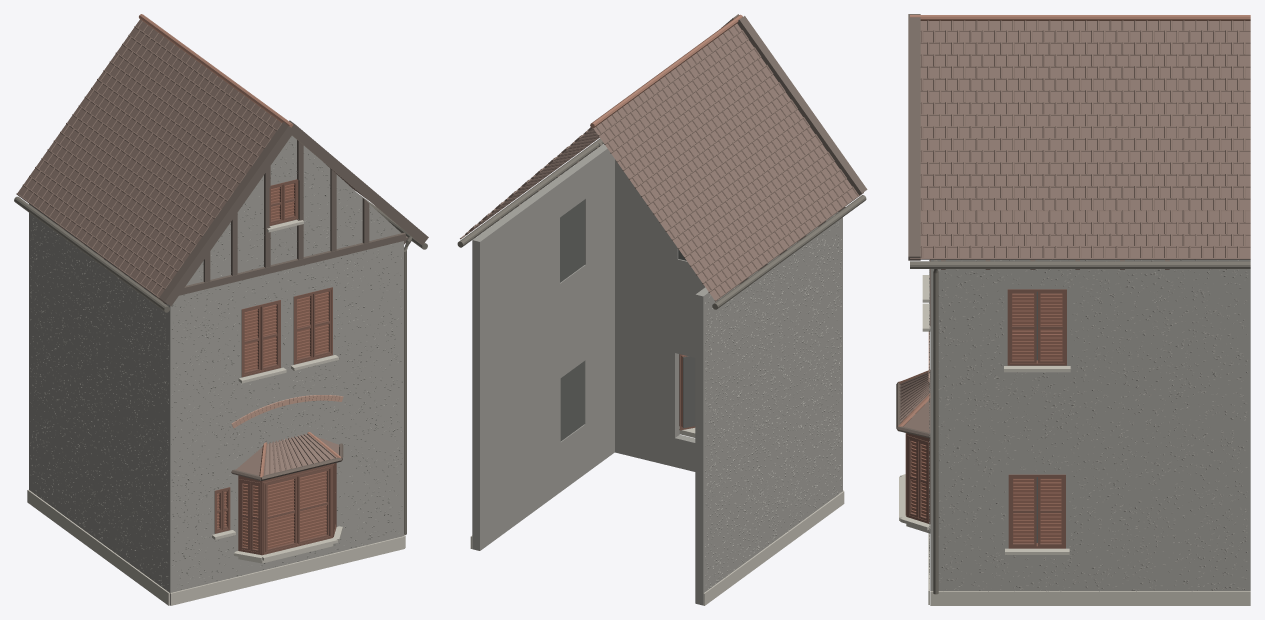
Rendered from huangpu-gaolan-17-garden-house-street-gable-raw.glb.
The picture shows the model from 3 angles, left to right: view 1: azimuth 30°, elevation 25°; view 2: azimuth 150°, elevation 25°; view 3: azimuth 270°, elevation 25°; orthographic projection. The views are drawn at different scales.
Parts seen in each view (by area): view 1: 皋兰路17号花园住宅临街灰卵石山墙与折窗; view 2: 皋兰路17号花园住宅临街灰卵石山墙与折窗; view 3: 皋兰路17号花园住宅临街灰卵石山墙与折窗.
Boxes of the visible parts, x1,y1,x2,y2 form: 皋兰路17号花园住宅临街灰卵石山墙与折窗: (14, 14, 428, 605); 皋兰路17号花园住宅临街灰卵石山墙与折窗: (457, 14, 867, 605); 皋兰路17号花园住宅临街灰卵石山墙与折窗: (896, 14, 1250, 605).
Size of the model in its own units: 6.64 by 11.07 by 6.8.
